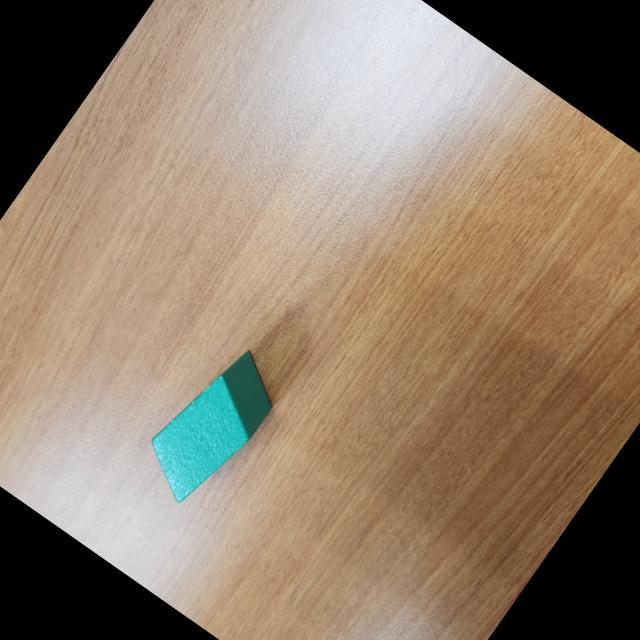green: (130, 334, 292, 516)
